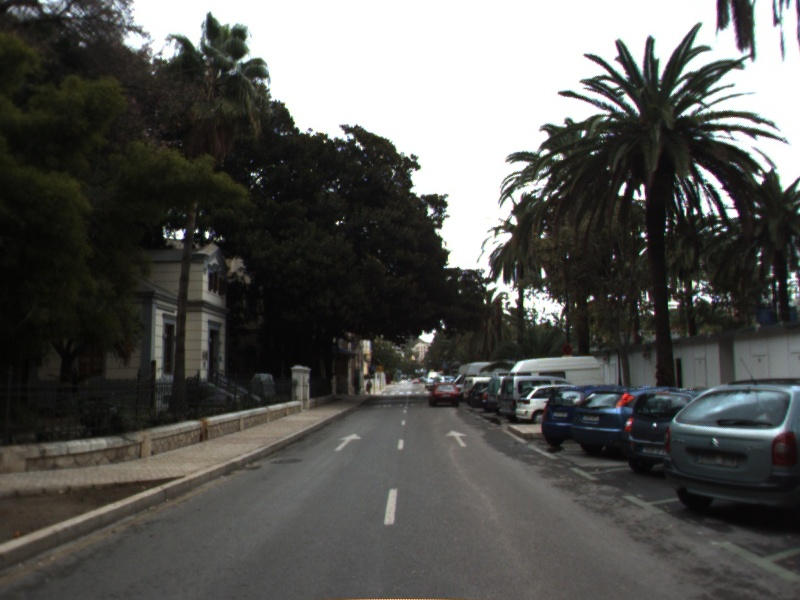STRAIGHT: (332, 431, 364, 454), (444, 428, 470, 449)
